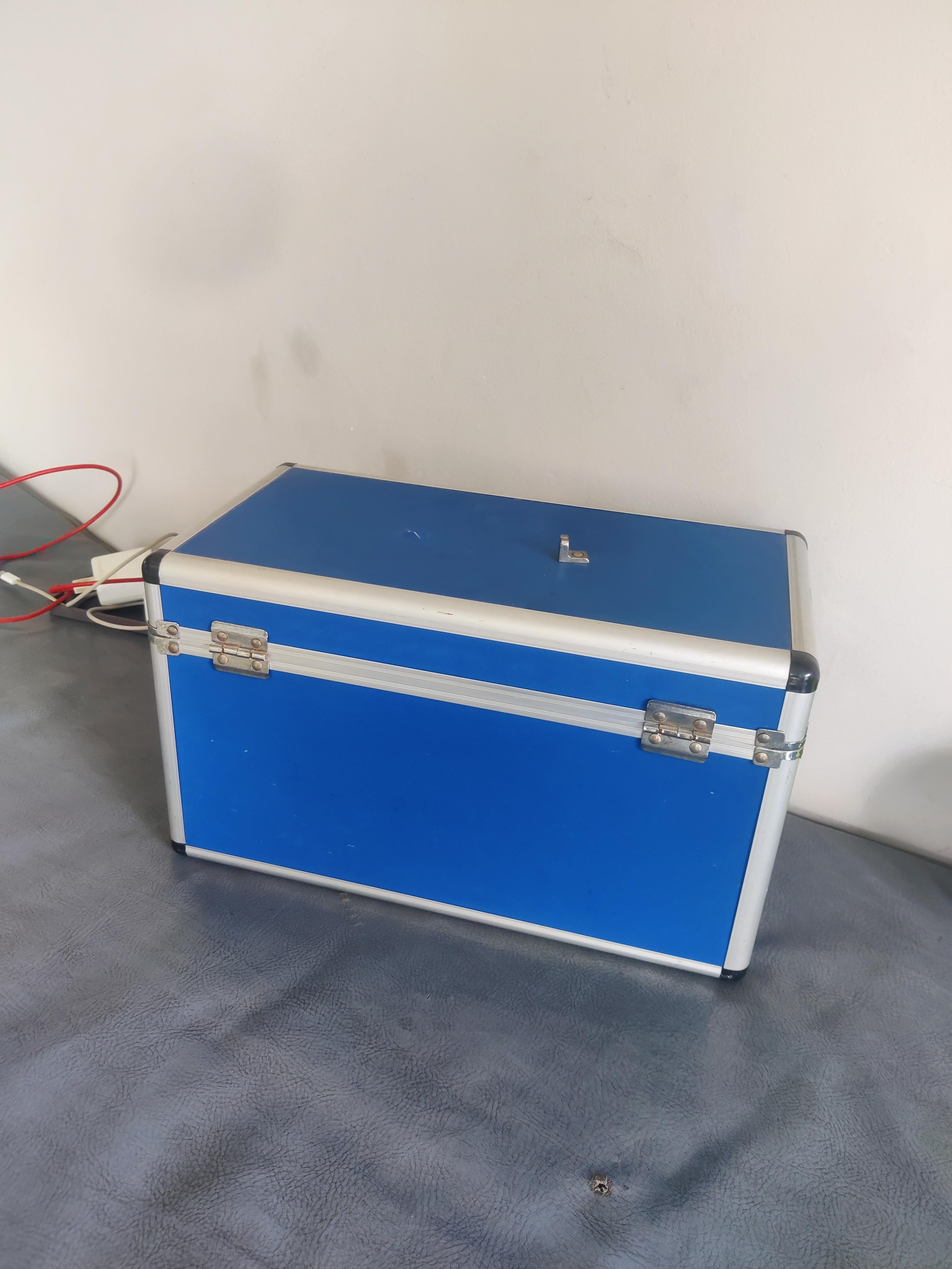FirstAidBox: (141, 429, 836, 1038)
